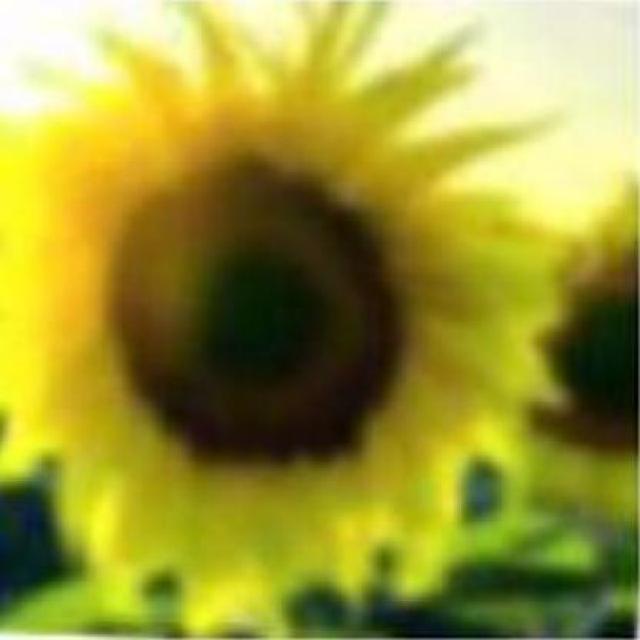sunflower: (3, 0, 574, 617)
